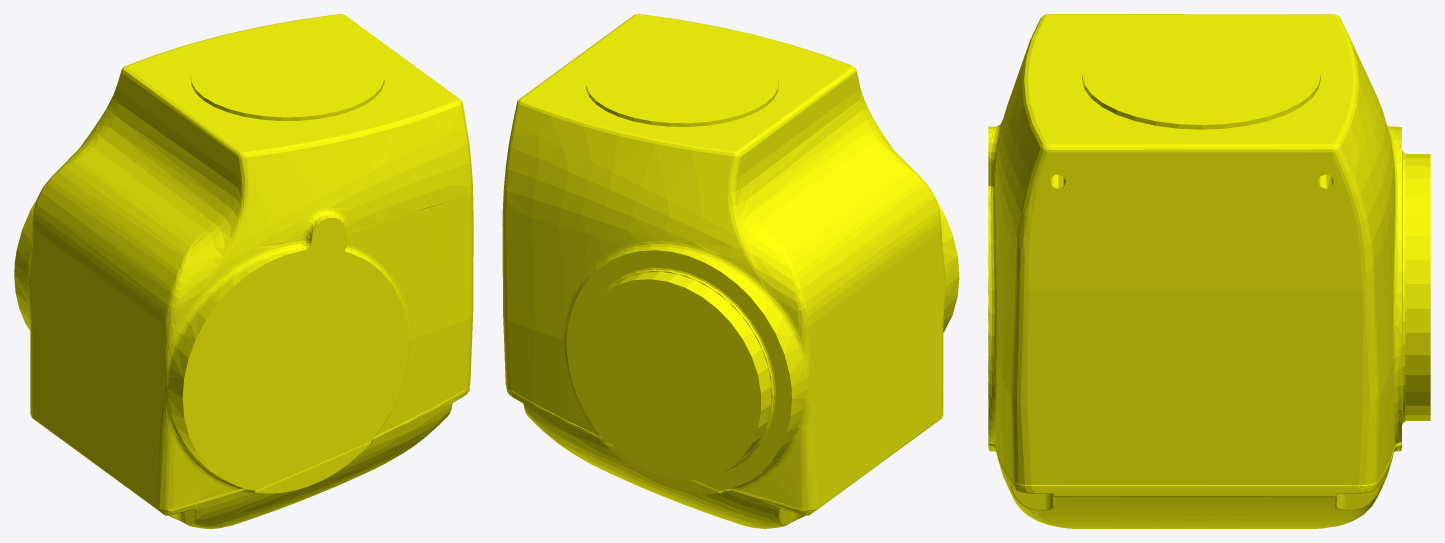
3 renders of one model, left to right at view 1: azimuth 30°, elevation 25°; view 2: azimuth 150°, elevation 25°; view 3: azimuth 270°, elevation 25°, orthographic. The views are drawn at different scales.
Parts seen in each view (by area): view 1: node; view 2: node; view 3: node.
Boxes of the visible parts, bbox=[...] form: node: bbox=[14, 14, 473, 528]; node: bbox=[502, 14, 959, 528]; node: bbox=[988, 14, 1430, 528].
Size of the model in its own units: 138 by 165 by 139.
